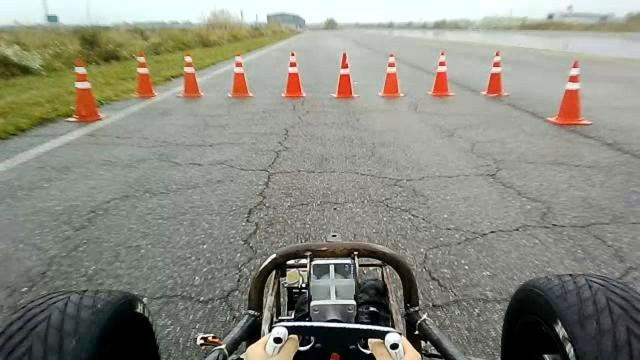red cone: (546, 58, 593, 126), (68, 61, 108, 127), (480, 49, 510, 97), (330, 50, 360, 98), (176, 50, 204, 98), (427, 50, 456, 96), (378, 52, 405, 98), (228, 52, 254, 99), (132, 50, 157, 98), (281, 50, 306, 98)
